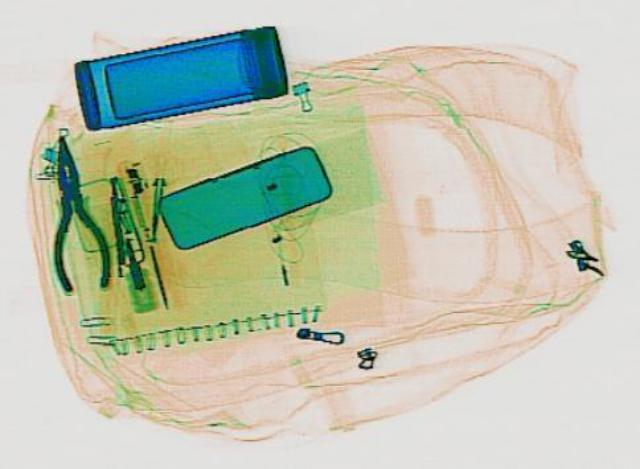Pliers: (31, 133, 110, 290)
